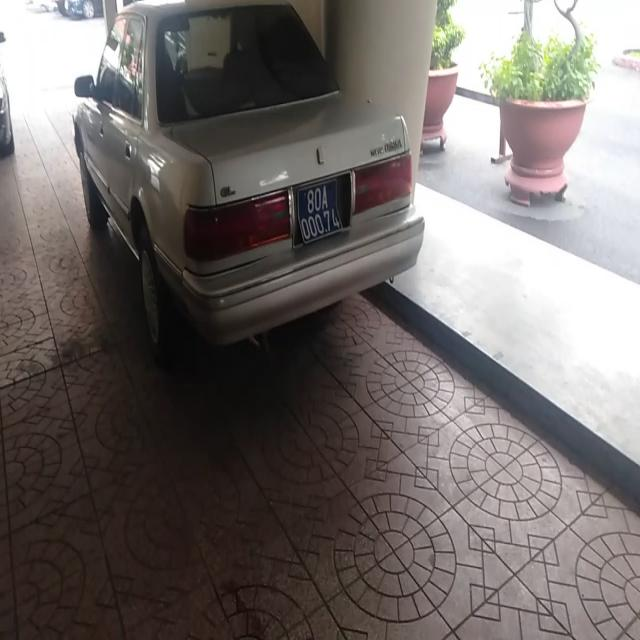bien_xanh: (294, 171, 342, 240)
